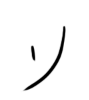so: (19, 23, 68, 92)
